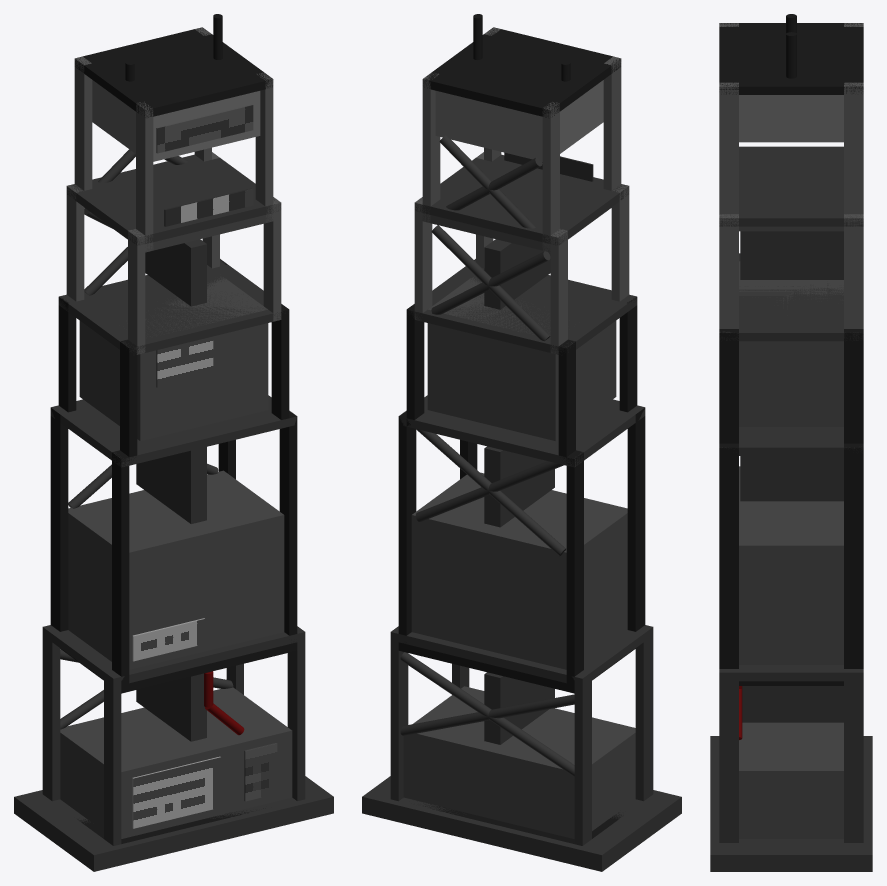
Rendered from CMU3DCommsMastGovforCloud.glb.
The picture shows the model from 3 angles, left to right: view 1: azimuth 30°, elevation 25°; view 2: azimuth 150°, elevation 25°; view 3: azimuth 270°, elevation 25°; orthographic projection.
Visible parts, largest first — view 1: large middle cover, lower electronics cover, upper equipment cover, stage 4 top tie, mast foot, stage 3 top tie, stage 2 top tie, lower white label source detail, small receiver cover, stage 1 front upright 5, stage 3 lower tie, stage 1 rear upright 5 (+27 smaller); view 2: large middle cover, lower electronics cover, upper equipment cover, stage 4 top tie, mast foot, stage 3 top tie, small receiver cover, stage 2 top tie, stage 1 rear upright 5, stage 1 front upright 5, stage 0 top tie, stage 1 top tie (+30 smaller); view 3: large middle cover, lower electronics cover, upper equipment cover, stage 4 top tie, stage 3 top tie, mast foot, upper bay central frame, small receiver cover, middle central frame, stage 1 front upright 26, stage 1 rear upright 26, stage 3 lower tie (+16 smaller).
Boxes of the visible parts, x1,y1,x2,y2 form: large middle cover: [68, 470, 284, 669]; lower electronics cover: [60, 687, 292, 838]; upper equipment cover: [79, 276, 268, 440]; stage 4 top tie: [74, 28, 273, 117]; mast foot: [14, 776, 333, 871]; stage 3 top tie: [66, 154, 281, 245]; stage 2 top tie: [58, 260, 285, 354]; lower white label source detail: [133, 757, 221, 828]; small receiver cover: [92, 80, 260, 161]; stage 1 front upright 5: [112, 450, 129, 693]; stage 3 lower tie: [110, 280, 280, 354]; stage 1 rear upright 5: [50, 408, 68, 631]; large middle cover: [411, 472, 627, 669]; lower electronics cover: [403, 686, 635, 838]; upper equipment cover: [427, 276, 616, 440]; stage 4 top tie: [423, 27, 621, 117]; mast foot: [362, 776, 681, 871]; stage 3 top tie: [415, 154, 629, 245]; small receiver cover: [435, 80, 603, 161]; stage 2 top tie: [407, 259, 637, 355]; stage 1 rear upright 5: [566, 450, 583, 693]; stage 1 front upright 5: [627, 408, 645, 631]; stage 0 top tie: [390, 625, 652, 683]; stage 1 top tie: [399, 395, 645, 467]; large middle cover: [739, 466, 843, 664]; lower electronics cover: [739, 722, 843, 838]; upper equipment cover: [739, 261, 843, 426]; stage 4 top tie: [719, 23, 863, 94]; stage 3 top tie: [719, 146, 863, 226]; mast foot: [710, 736, 872, 871]; upper bay central frame: [740, 231, 843, 279]; small receiver cover: [739, 95, 843, 142]; middle central frame: [740, 456, 843, 501]; stage 1 front upright 26: [719, 443, 738, 668]; stage 1 rear upright 26: [844, 443, 863, 668]; stage 3 lower tie: [739, 283, 843, 328].
Bounding box in the file's own units: 0.9375 × 2.94 × 0.54.
14 materials, 6 textured.
